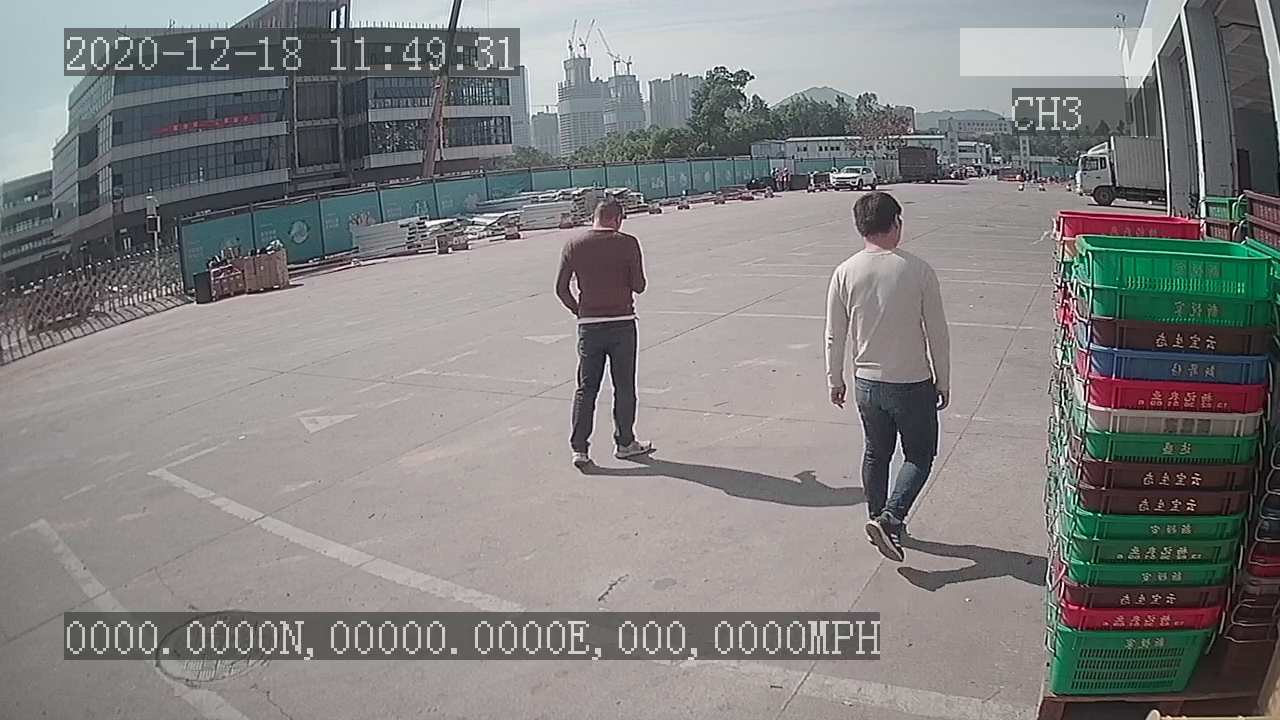person: (822, 188, 956, 570), (554, 197, 659, 472)
